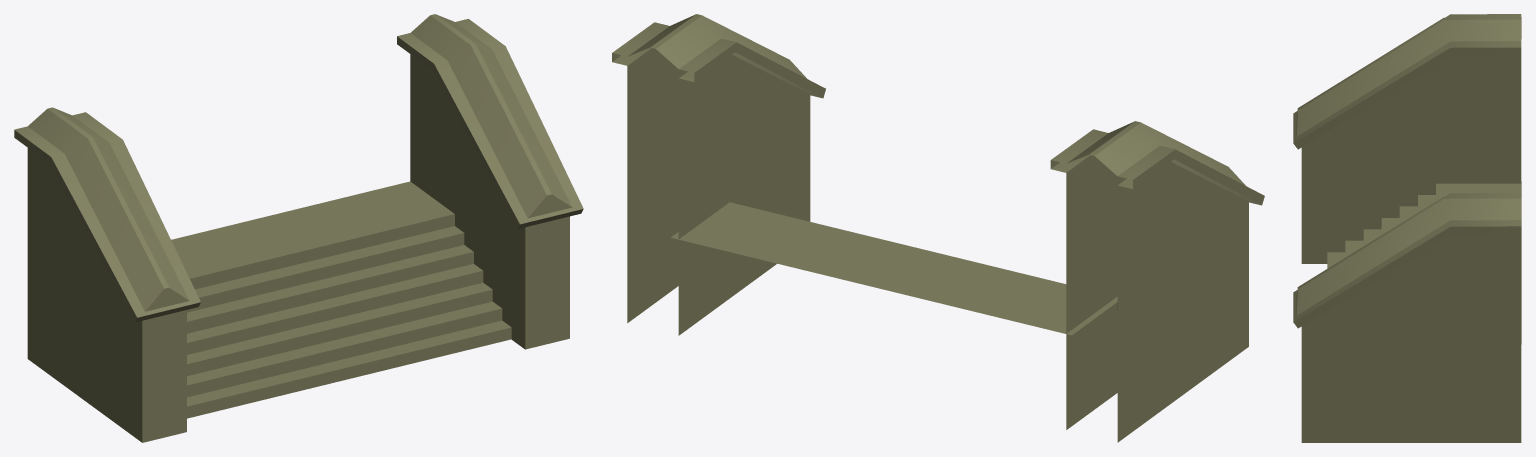
The model's file is stairs01.fbx.
The picture shows the model from 3 angles, left to right: view 1: azimuth 30°, elevation 25°; view 2: azimuth 150°, elevation 25°; view 3: azimuth 270°, elevation 25°; orthographic projection. The views are drawn at different scales.
Visible parts, largest first — view 1: stairs01; view 2: stairs01; view 3: stairs01.
Part boxes in pixels (x1,y1,x2,y2): stairs01: (14,14,583,442); stairs01: (612,14,1264,442); stairs01: (1293,14,1521,442).
Bounding box in the file's own units: 6.07 × 3.13 × 2.76.
